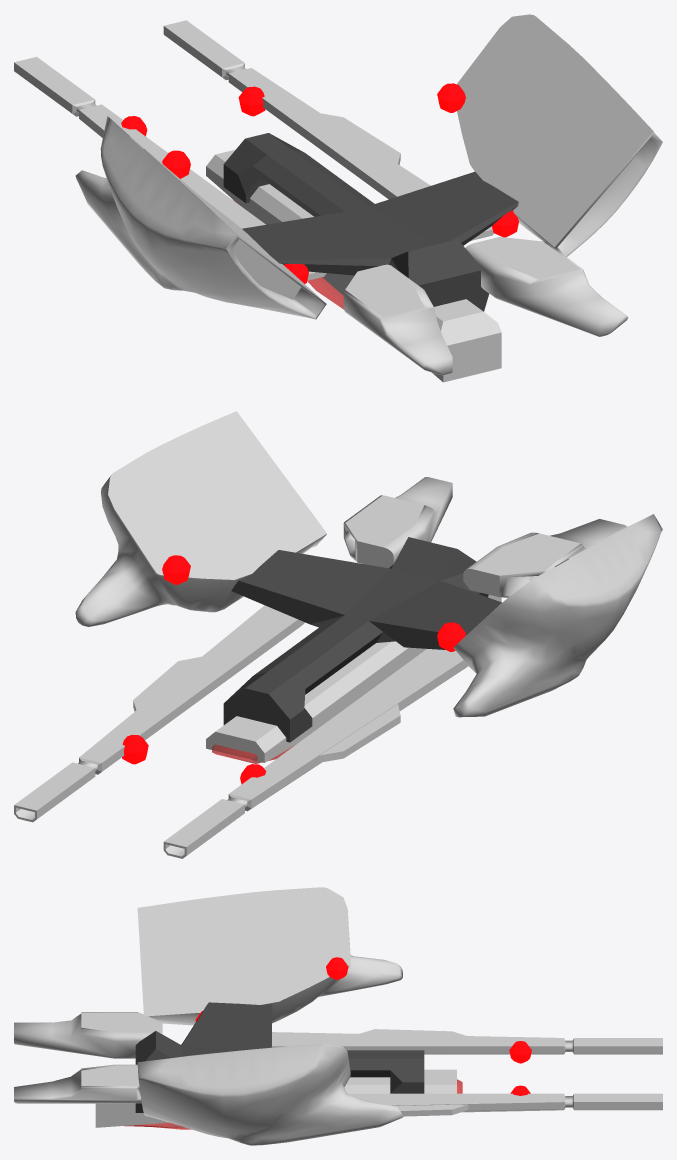
File: CHO REN SHA_LOW POLY.glb
3 views of the same model, one above another, from view 1: azimuth 30°, elevation 25°; view 2: azimuth 150°, elevation 25°; view 3: azimuth 270°, elevation 25° (orthographic). The views are drawn at different scales.
Parts seen in each view (by area): view 1: ship; view 2: ship; view 3: ship.
Part boxes in pixels (x1=…): ship: x1=14, y1=14, x2=662, y2=382; ship: x1=14, y1=411, x2=662, y2=858; ship: x1=14, y1=887, x2=662, y2=1145.
Bounding box in the file's own units: 3.59 × 1.49 × 5.46.
